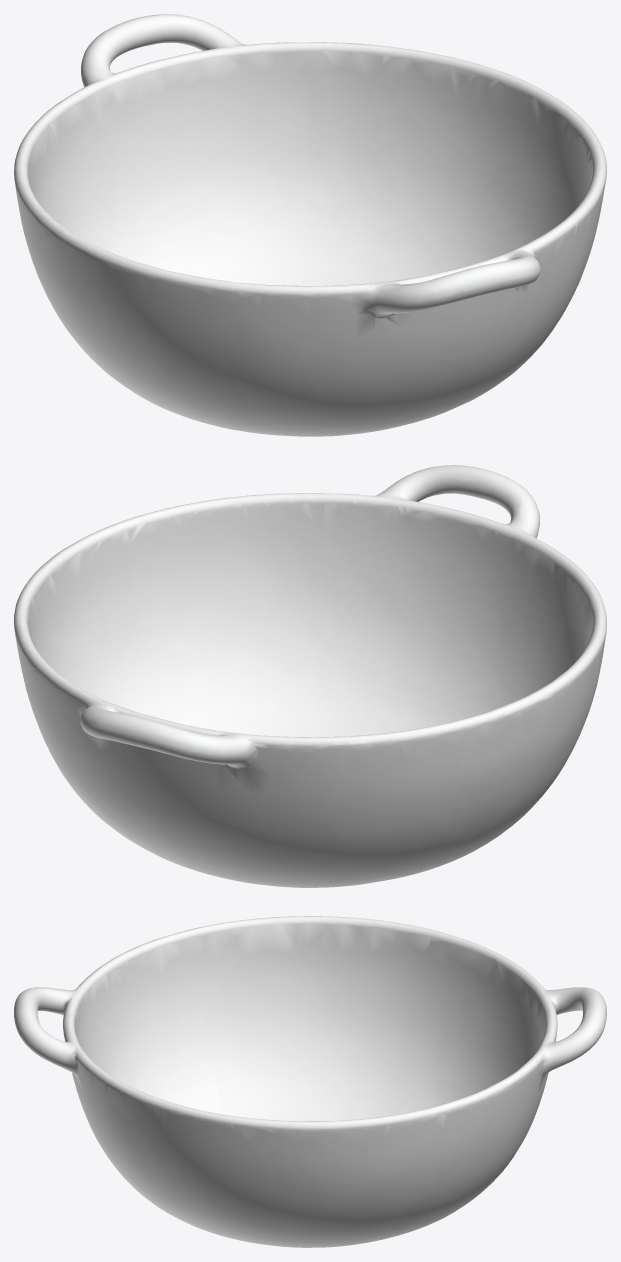
Rendered from broth-pot.glb.
The picture shows the model from 3 angles, top to bottom: view 1: azimuth 30°, elevation 25°; view 2: azimuth 150°, elevation 25°; view 3: azimuth 270°, elevation 25°; orthographic projection. The views are drawn at different scales.
Parts seen in each view (by area): view 1: mesh; view 2: mesh; view 3: mesh.
Boxes of the visible parts, box(x1,y1,x2,y2) form: mesh: box(14, 14, 606, 436); mesh: box(14, 465, 606, 887); mesh: box(14, 916, 606, 1247).
Size of the model in its own units: 1.68 by 0.7328 by 2.
Materials: 1 (1 with a texture image).
